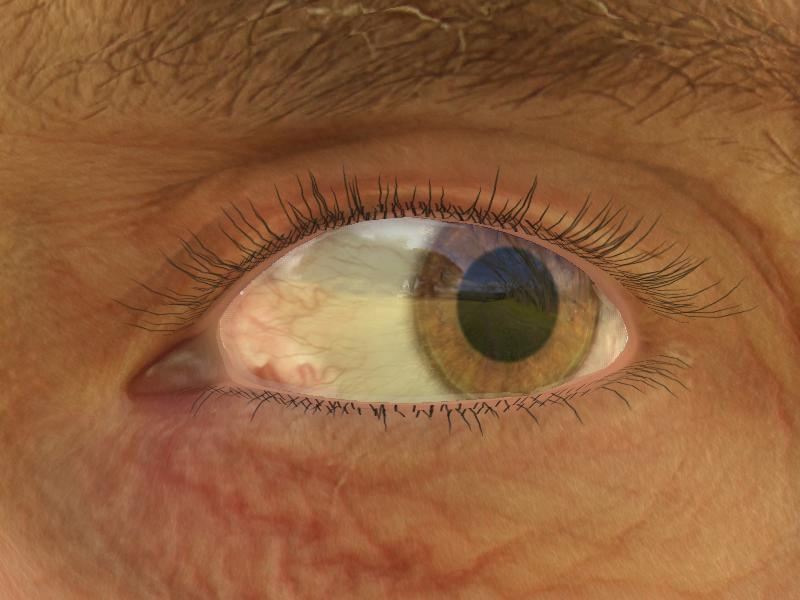eye: (417, 220, 610, 396)
